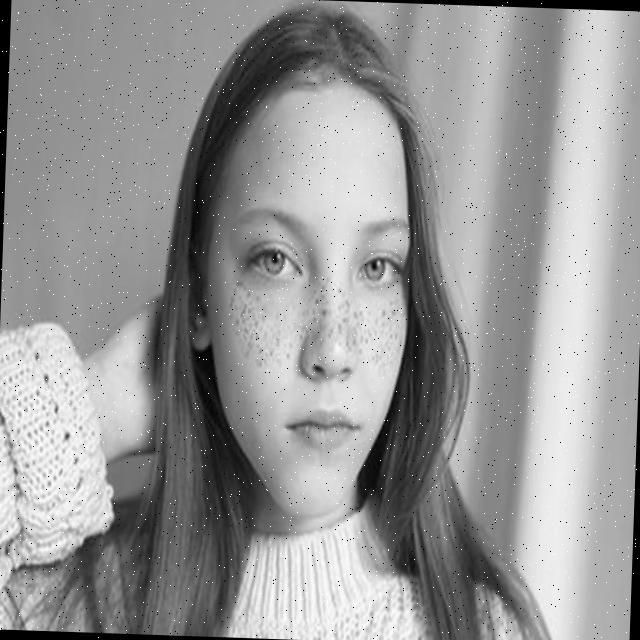Neutral: (196, 88, 414, 520)
